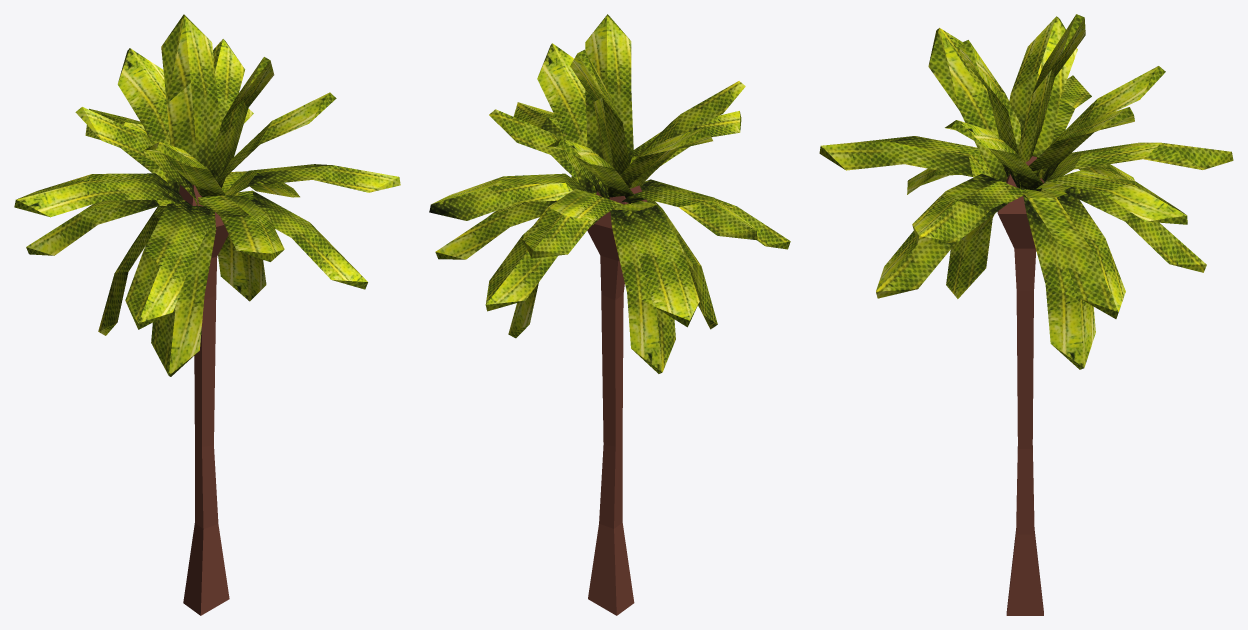
Rendered from SM_DesertTree_B.fbx.
3 renders of one model, left to right at view 1: azimuth 30°, elevation 25°; view 2: azimuth 150°, elevation 25°; view 3: azimuth 270°, elevation 25°, orthographic. The views are drawn at different scales.
Parts seen in each view (by area): view 1: SM_DesertTree_B; view 2: SM_DesertTree_B; view 3: SM_DesertTree_B.
Boxes of the visible parts, x1,y1,x2,y2 form: SM_DesertTree_B: (14, 14, 400, 615); SM_DesertTree_B: (429, 14, 790, 615); SM_DesertTree_B: (819, 14, 1233, 615).
Bounding box in the file's own units: 187 × 326 × 202.
